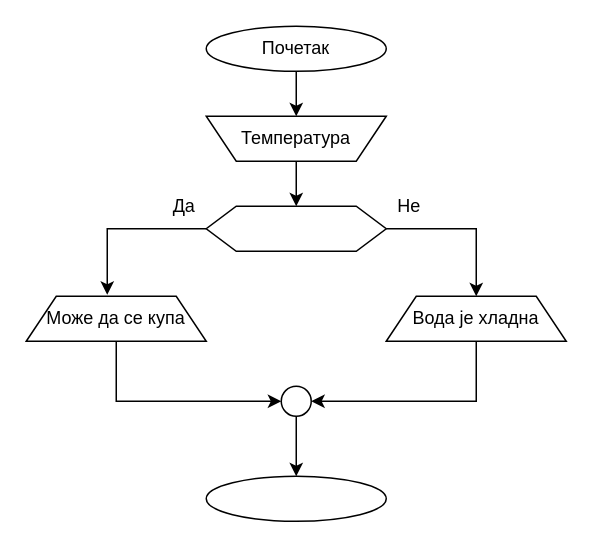
The diagram is 593 pixels wide and 548 high, and some of its shapes have lost their labels. Each missing label, with the centre of its shape:
"Крај" belongs at (295,498).
"Температура > 25" belongs at (295,228).
